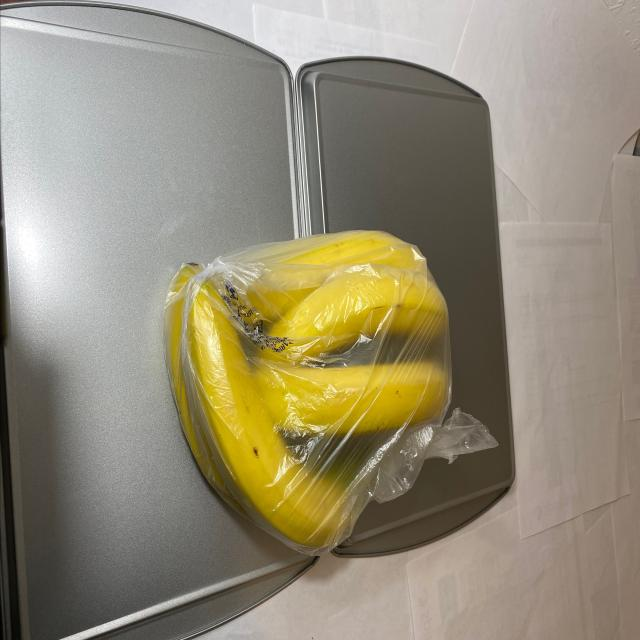banana: (164, 228, 457, 558)
